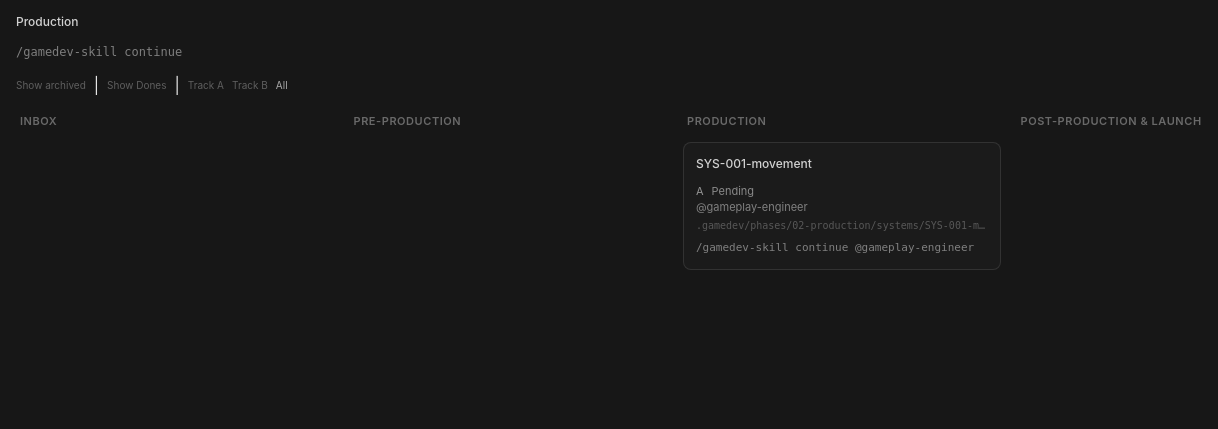
it: GameBoardTab › Track A SYS card expands with blurb, tasks, and Inputs
Click the button "SYS-001-movement": (754, 163) [696, 154, 988, 172]
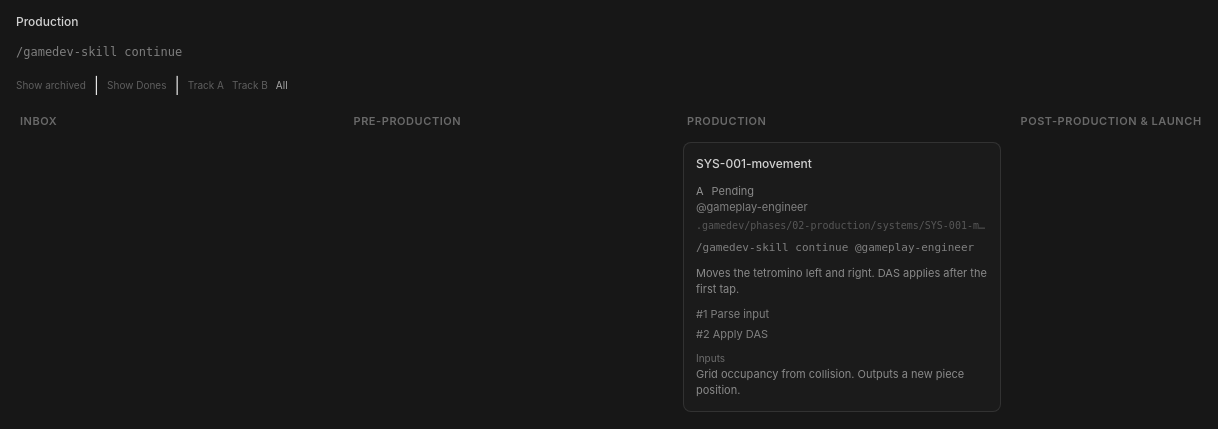
Check: the element that starts with "SYS-001-movement" shows "Moves the tetromino left and right. DAS applies after the first tap.", box [696, 266, 990, 296]
Check: the element that starts with "SYS-001-movement" shows "#1 Parse input", box [683, 142, 1000, 412]
Check: the element that starts with "SYS-001-movement" shows "#2 Apply DAS", box [683, 142, 1000, 412]
